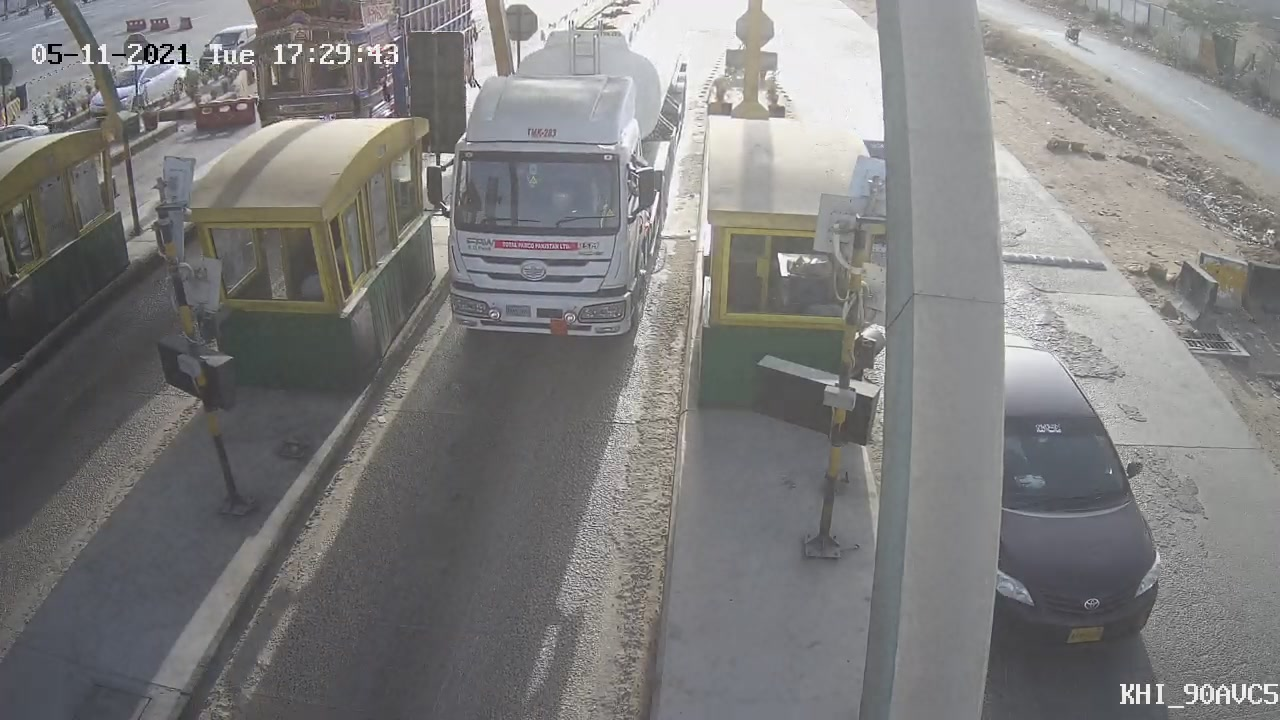F6: (409, 1, 707, 362)
